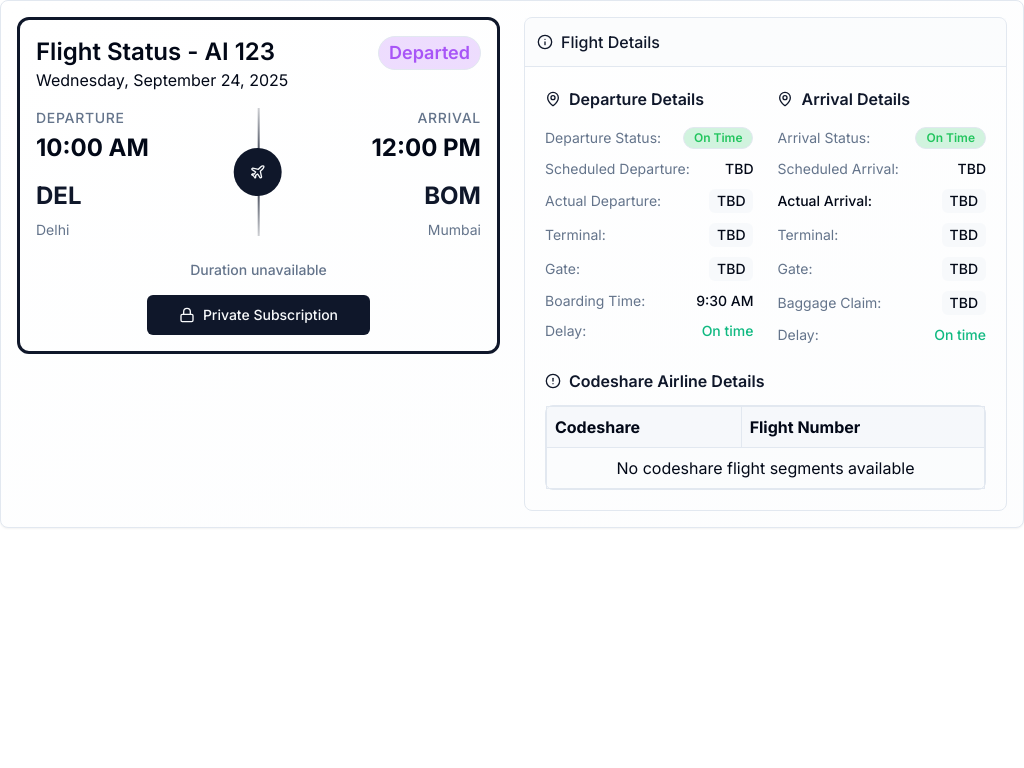
Test: SubscribeFlightCard › opens standard subscription dialog
Click the button "Private Subscription": (258, 315) x1=147 y1=295 x2=370 y2=335
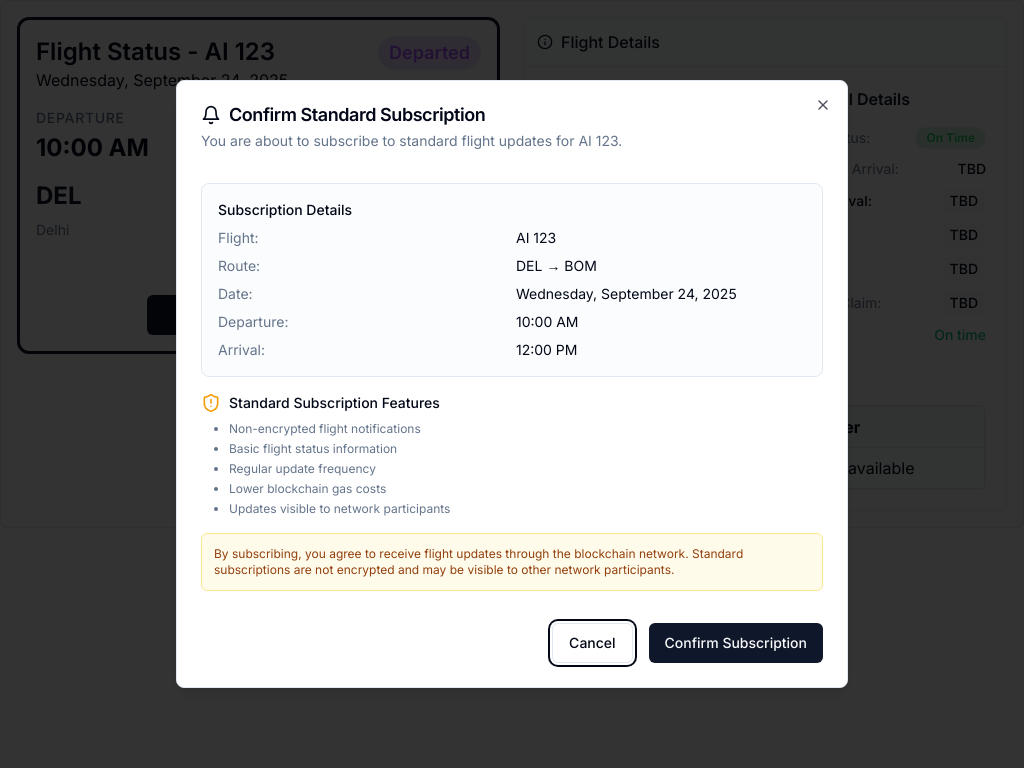
expect the heading "Confirm Standard Subscription" is shown: met, box x1=201 y1=104 x2=485 y2=125
